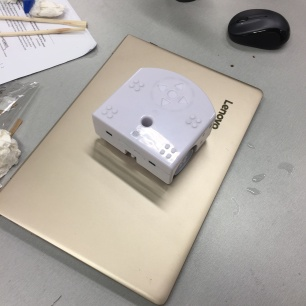thymio: (88, 66, 221, 190)
